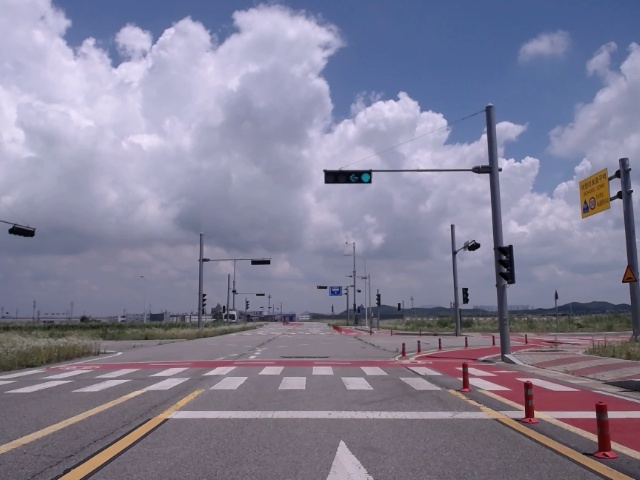all_green_4: (327, 169, 378, 185)
